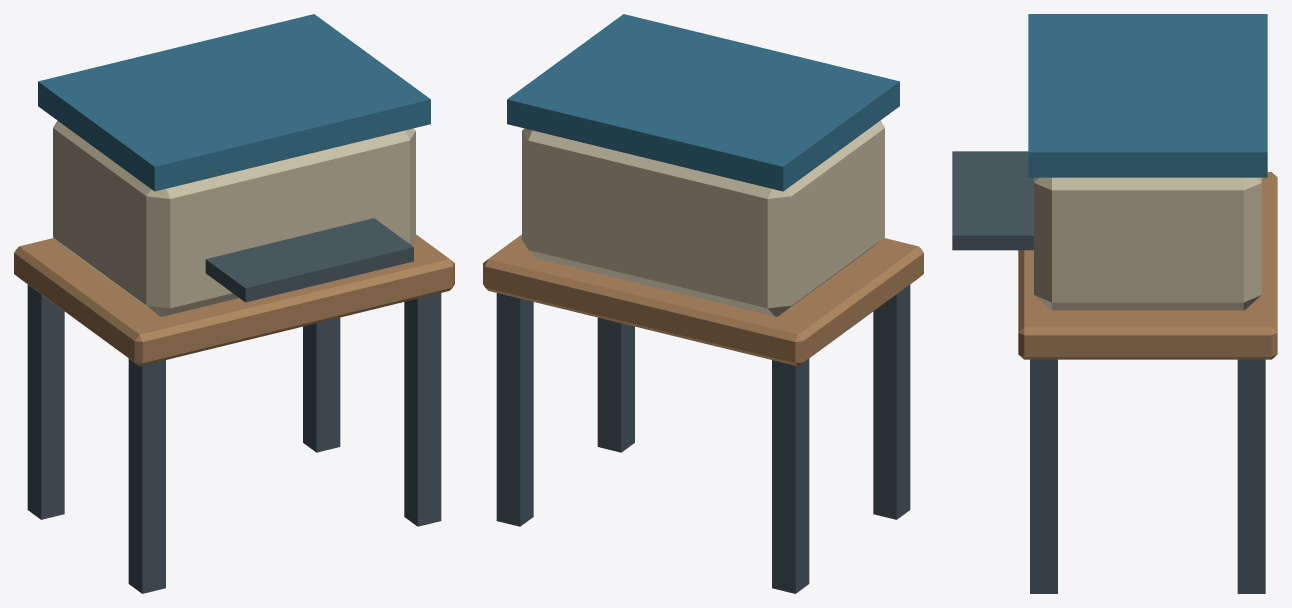
The model's file is printer_station.glb.
3 views of the same model, side by side, from view 1: azimuth 30°, elevation 25°; view 2: azimuth 150°, elevation 25°; view 3: azimuth 270°, elevation 25° (orthographic). The views are drawn at different scales.
Parts seen in each view (by area): view 1: printer_station; view 2: printer_station; view 3: printer_station.
Boxes of the visible parts, box(x1,y1,x2,y2) form: printer_station: box(14, 14, 454, 593); printer_station: box(483, 14, 923, 593); printer_station: box(952, 14, 1277, 593).
Size of the model in its own units: 0.95 by 1.2 by 0.815.
